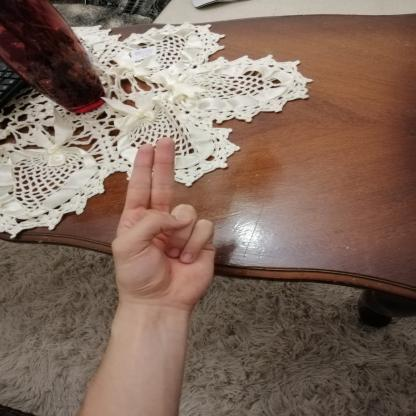TA: (92, 128, 235, 320)
